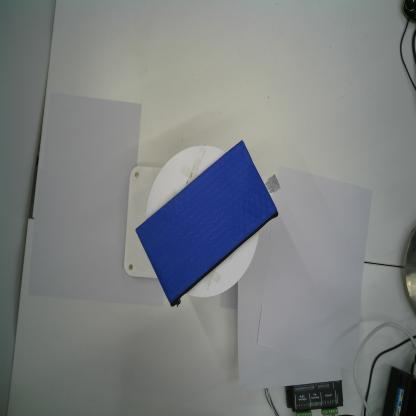Stationery: (134, 137, 282, 310)
